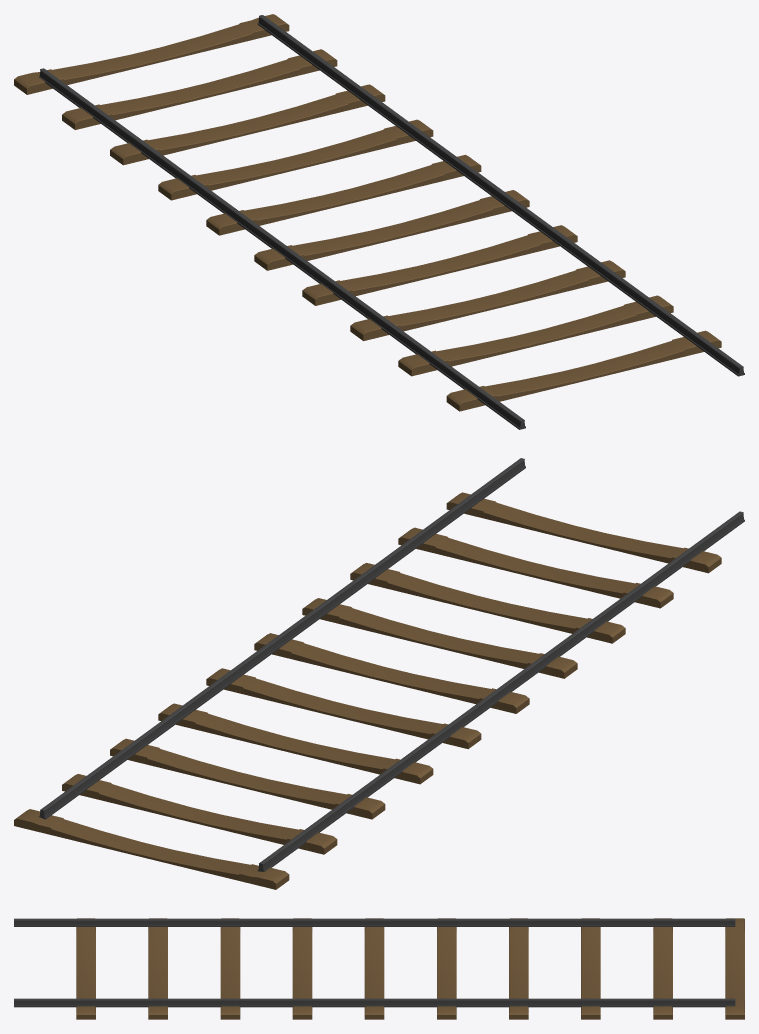
Rendered from Vias.fbx.
3 renders of one model, top to bottom at view 1: azimuth 30°, elevation 25°; view 2: azimuth 150°, elevation 25°; view 3: azimuth 270°, elevation 25°, orthographic. The views are drawn at different scales.
Visible parts, largest first — view 1: Rails, Trav0, Trav9, Trav4, Trav5, Trav7, Trav8, Trav3, Trav6, Trav1, Trav2; view 2: Rails, Trav0, Trav6, Trav1, Trav4, Trav3, Trav7, Trav2, Trav5, Trav8, Trav9; view 3: Rails, Trav0, Trav5, Trav6, Trav7, Trav2, Trav3, Trav4, Trav8, Trav9, Trav1.
Part boxes in pixels (box(x1,y1,x2,y2)): Rails: box(39, 15, 744, 429); Trav0: box(14, 14, 289, 94); Trav9: box(446, 330, 721, 411); Trav4: box(206, 154, 481, 235); Trav5: box(254, 190, 529, 270); Trav7: box(350, 260, 625, 341); Trav8: box(398, 295, 673, 376); Trav3: box(158, 119, 433, 200); Trav6: box(302, 225, 577, 305); Trav1: box(62, 49, 337, 129); Trav2: box(110, 84, 385, 165); Rails: box(38, 458, 744, 871); Trav0: box(14, 809, 289, 889); Trav6: box(302, 598, 577, 678); Trav1: box(62, 774, 337, 854); Trav4: box(206, 668, 481, 749); Trav3: box(158, 703, 433, 784); Trav7: box(350, 563, 625, 643); Trav2: box(110, 738, 385, 819); Trav5: box(254, 633, 529, 713); Trav8: box(398, 527, 673, 608); Trav9: box(446, 492, 721, 573); Rails: box(14, 918, 735, 1007); Trav0: box(725, 918, 744, 1019); Trav5: box(364, 918, 384, 1019); Trav6: box(292, 918, 312, 1019); Trav7: box(220, 918, 240, 1019); Trav2: box(581, 918, 600, 1019); Trav3: box(509, 918, 528, 1019); Trav4: box(437, 918, 456, 1019); Trav8: box(148, 918, 167, 1019); Trav9: box(76, 918, 95, 1019); Trav1: box(653, 918, 672, 1019).
Size of the model in its own units: 945 by 56.15 by 3041.
